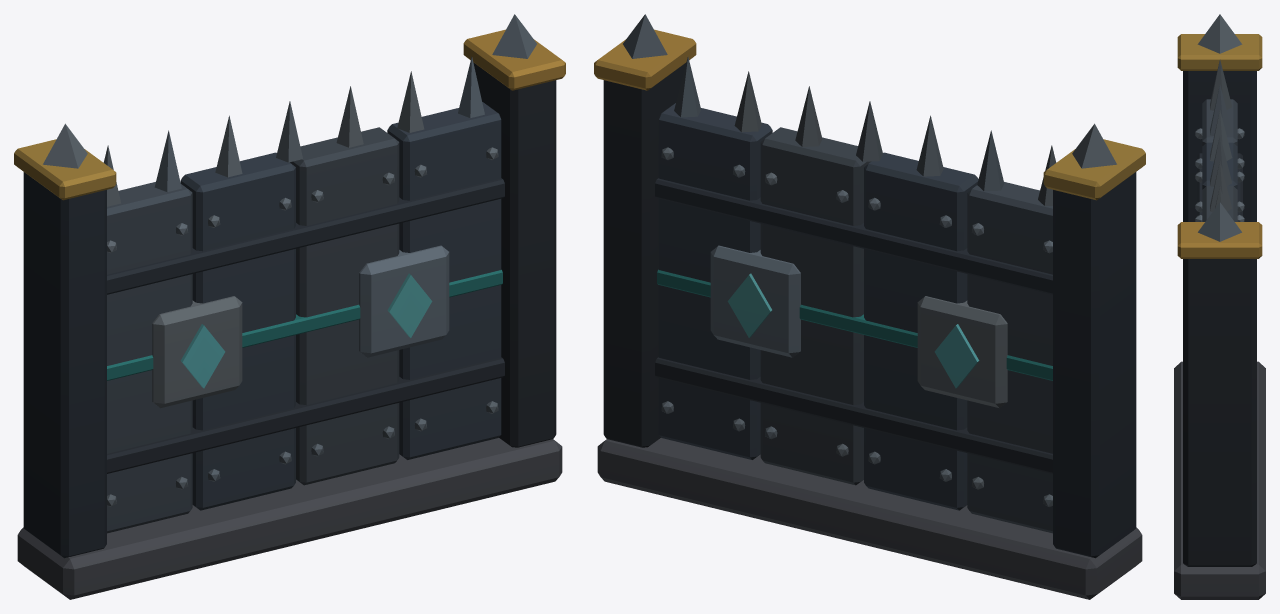
Rendered from def_metalwall.glb.
3 views of the same model, side by side, from view 1: azimuth 30°, elevation 25°; view 2: azimuth 150°, elevation 25°; view 3: azimuth 270°, elevation 25° (orthographic). The views are drawn at different scales.
Parts seen in each view (by area): view 1: Base, Up2, Up3; view 2: Base, Up2, Up3; view 3: Base, Up3, Up2.
Part boxes in pixels (<box>): Base: <box>17,14,562,599</box>; Up2: <box>103,56,484,408</box>; Up3: <box>14,29,565,388</box>; Base: <box>597,14,1142,599</box>; Up2: <box>674,56,1056,408</box>; Up3: <box>594,29,1145,388</box>; Base: <box>1174,14,1265,599</box>; Up3: <box>1177,34,1262,258</box>; Up2: <box>1210,59,1232,211</box>.
Bounding box in the file's own units: 2.84 × 2.44 × 0.52.
